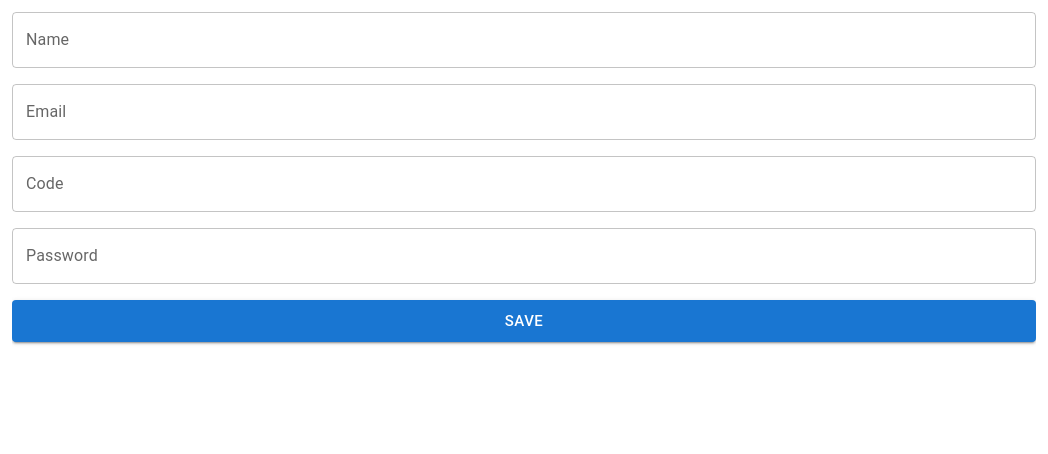
Scenario: FieldsForm › shows each backend rule inline and blocks the submit
Type "toolong" into the field labelled "Name".
click(524, 40); type("toolong")  # box [12, 12, 1036, 68]
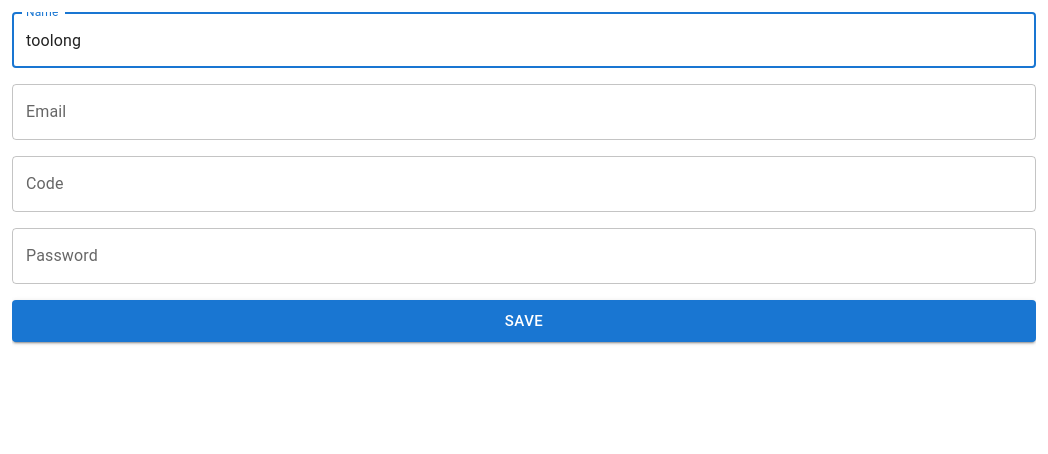
Type "not-an-email" into the field labelled "Email".
click(524, 112); type("not-an-email")  # box [12, 84, 1036, 140]
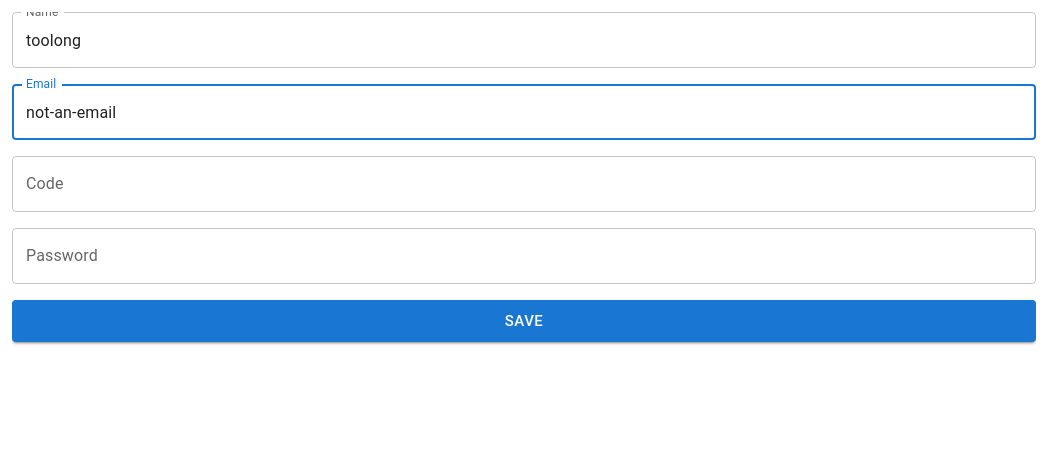
Type "bad code" into the field labelled "Code".
click(524, 184); type("bad code")  # box [12, 156, 1036, 212]
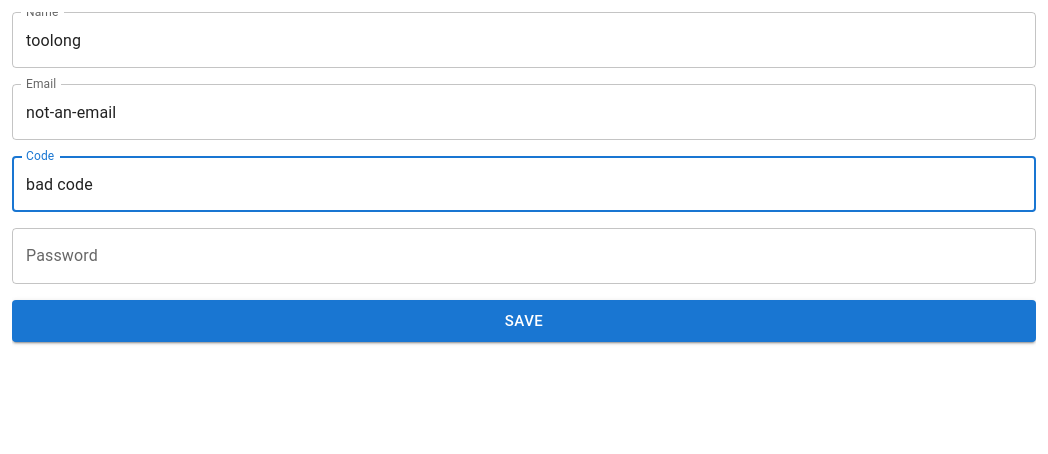
Type "short" into the field labelled "Password".
click(524, 256); type("short")  # box [12, 228, 1036, 284]
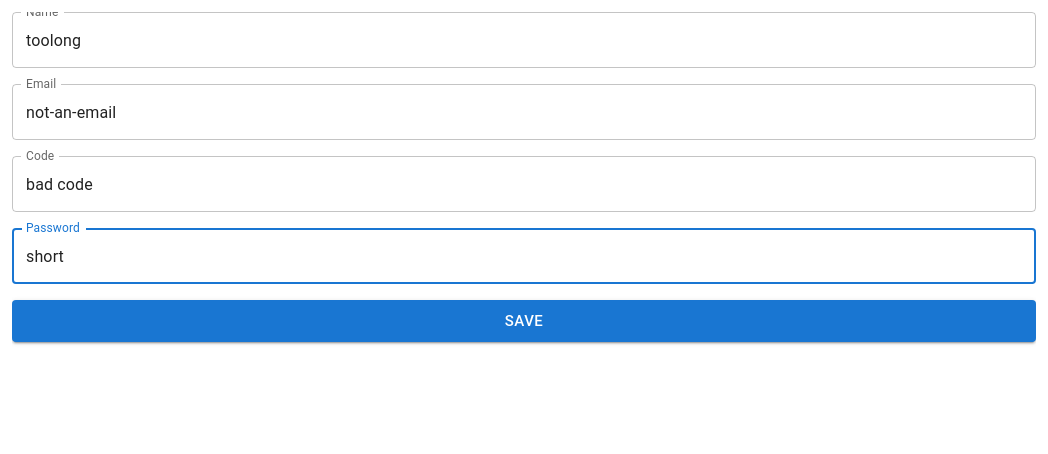
Click the button "Save".
click(524, 321)  # box [12, 300, 1036, 342]
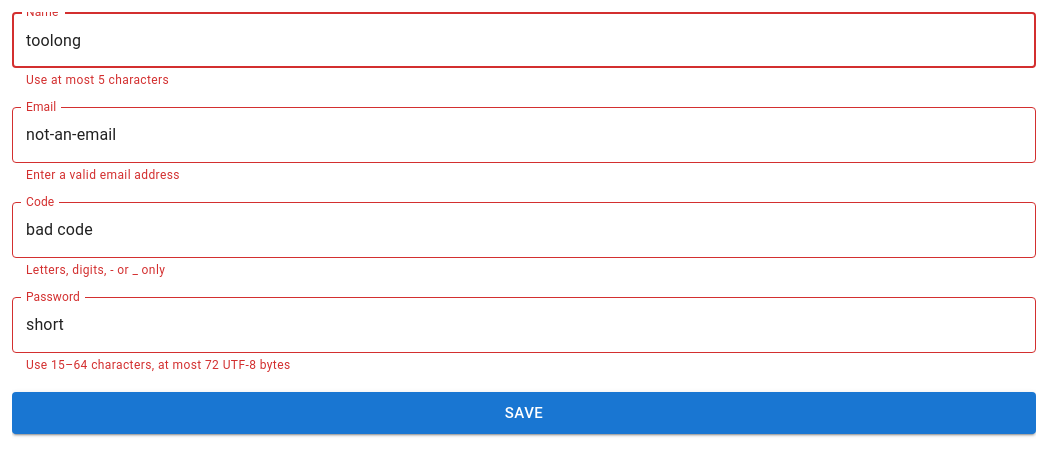
Now the text "Use at most 5 characters" is shown, box [26, 73, 169, 87]
Now the text "Enter a valid email address" is shown, box [26, 168, 180, 182]
Now the text "Letters, digits, - or _ only" is shown, box [26, 263, 165, 277]
